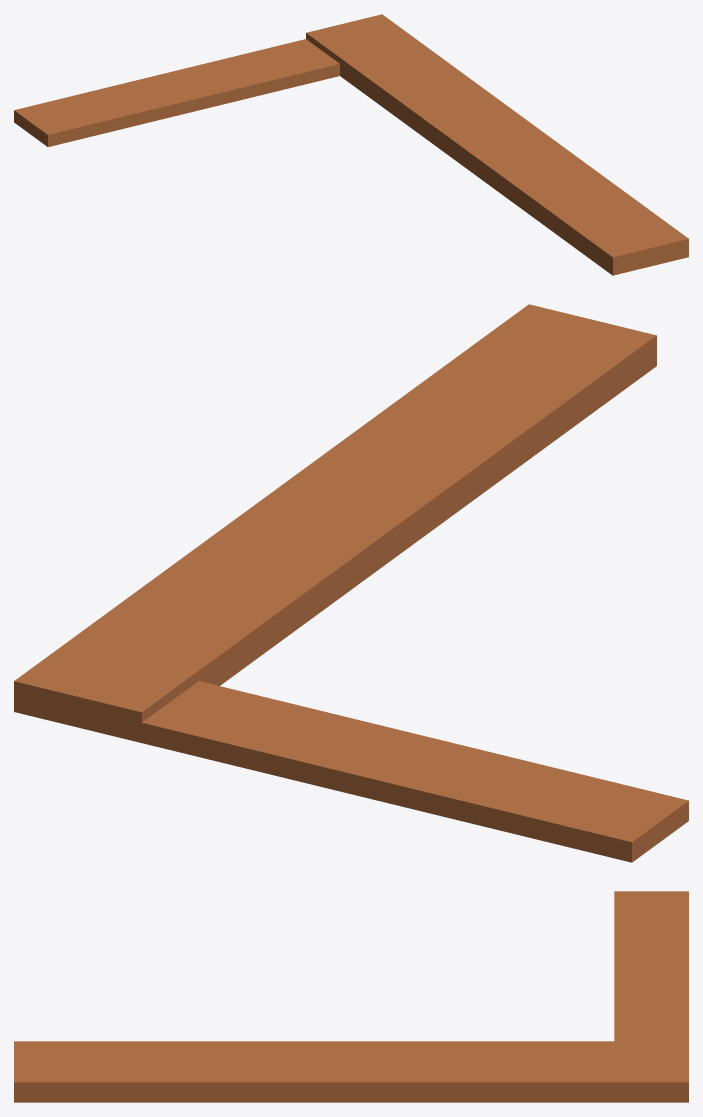
The model's file is angle01.obj.
3 views of the same model, one above another, from view 1: azimuth 30°, elevation 25°; view 2: azimuth 150°, elevation 25°; view 3: azimuth 270°, elevation 25° (orthographic). The views are drawn at different scales.
Visible parts, largest first — view 1: Cube.001_Cube.006; view 2: Cube.001_Cube.006; view 3: Cube.001_Cube.006.
Part boxes in pixels (x1,y1,x2,y2): Cube.001_Cube.006: [14, 14, 688, 275]; Cube.001_Cube.006: [14, 304, 688, 862]; Cube.001_Cube.006: [14, 891, 688, 1102].
Bounding box in the file's own units: 0.0948 × 0.00451 × 0.1368.
Materials: 1 (1 with a texture image).
